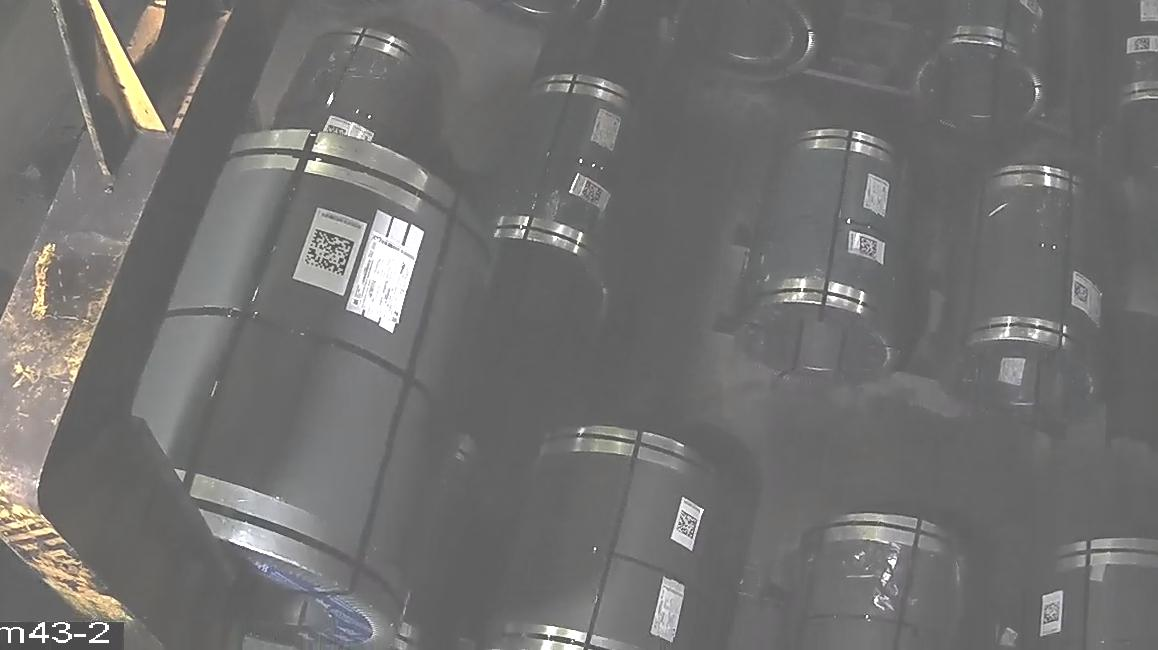data matrix: (301, 225, 358, 279), (672, 508, 702, 541), (580, 180, 606, 208), (1041, 600, 1065, 627), (1072, 278, 1093, 308), (857, 235, 880, 262), (1133, 37, 1153, 55)
